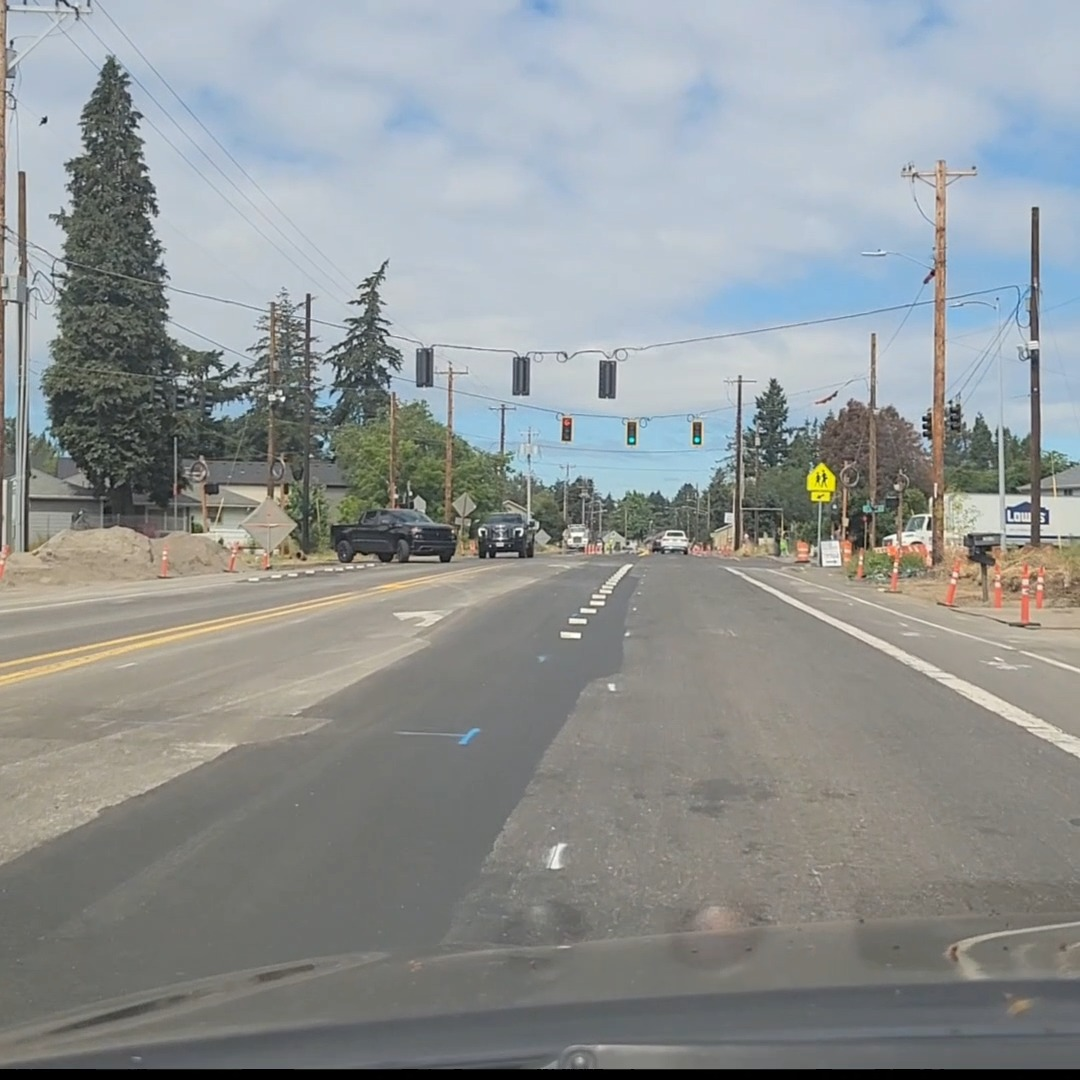car: (325, 507, 462, 567), (474, 510, 540, 558), (657, 529, 689, 554), (562, 524, 589, 551), (641, 532, 663, 552)
crosswalk-sign: (806, 461, 835, 501)
delineator: (1012, 573, 1039, 628), (943, 560, 962, 606), (887, 544, 903, 592), (992, 564, 1003, 608), (1034, 566, 1045, 609), (157, 547, 170, 578), (226, 541, 239, 572), (856, 546, 866, 577), (259, 543, 270, 570)
